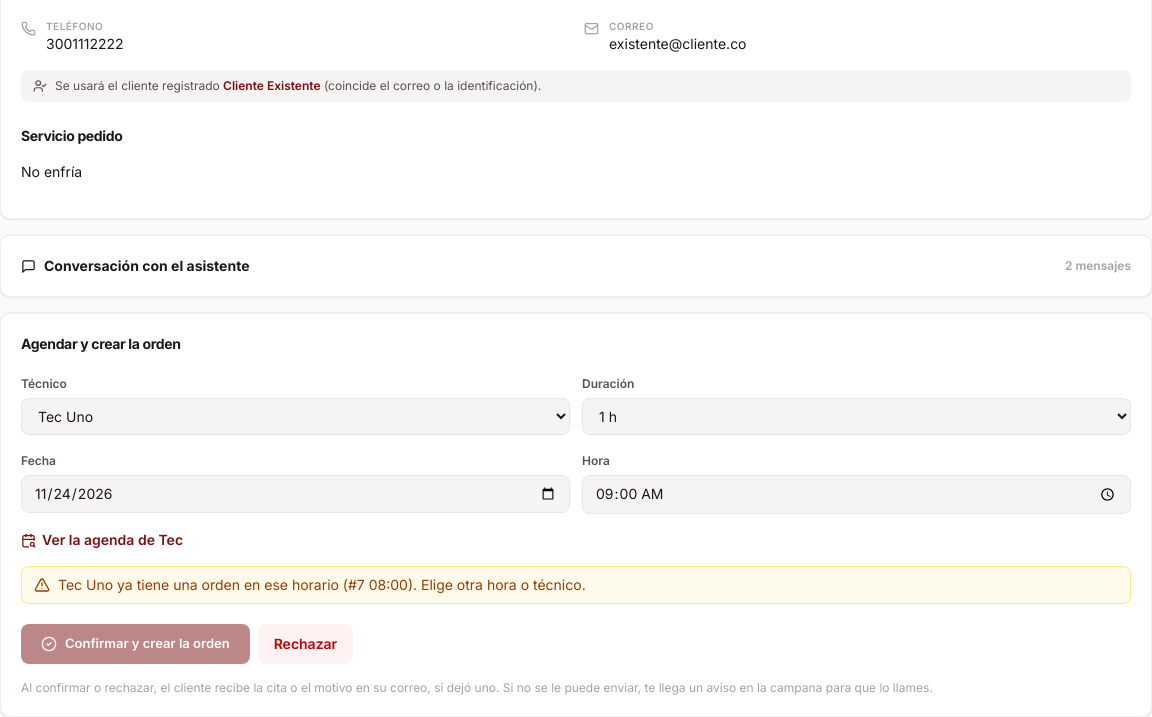
ServiceRequestDetail › rechaza solo con motivo
Later steps or results of the test are not shown.
(page scrolled)
Click the button "Rechazar" at (305, 644), box x1=258 y1=624 x2=353 y2=664
(page scrolled)
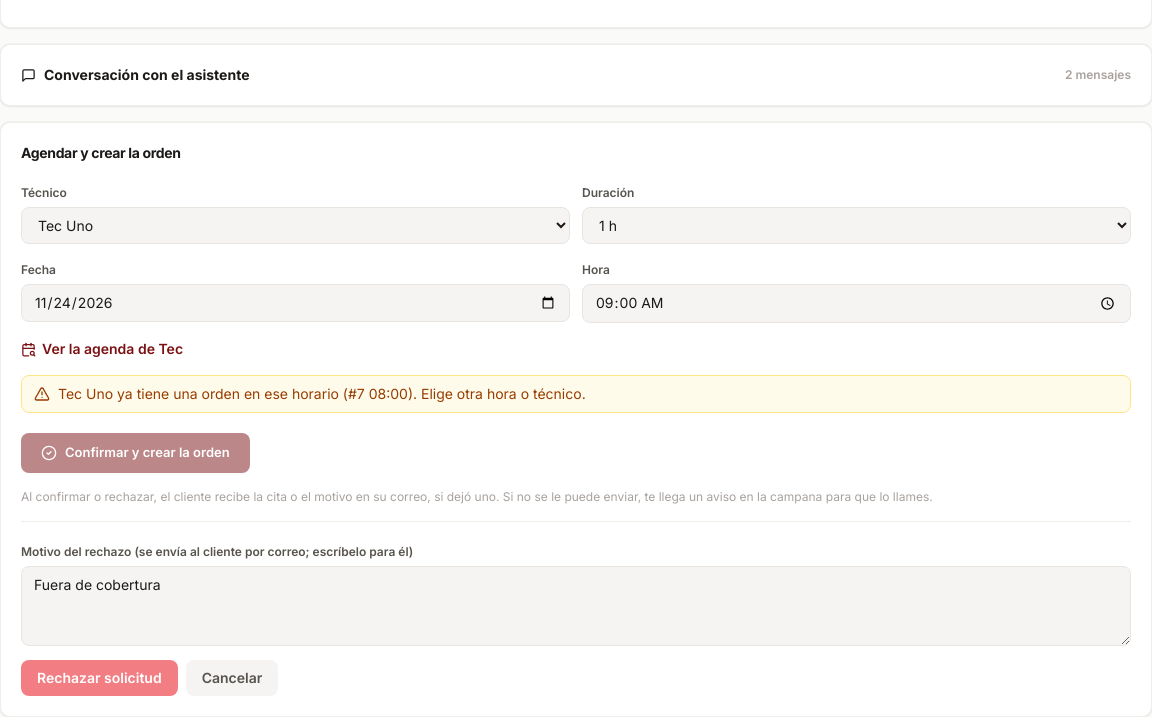
Expected: the button "Rechazar solicitud" is disabled, x1=21 y1=660 x2=178 y2=696
